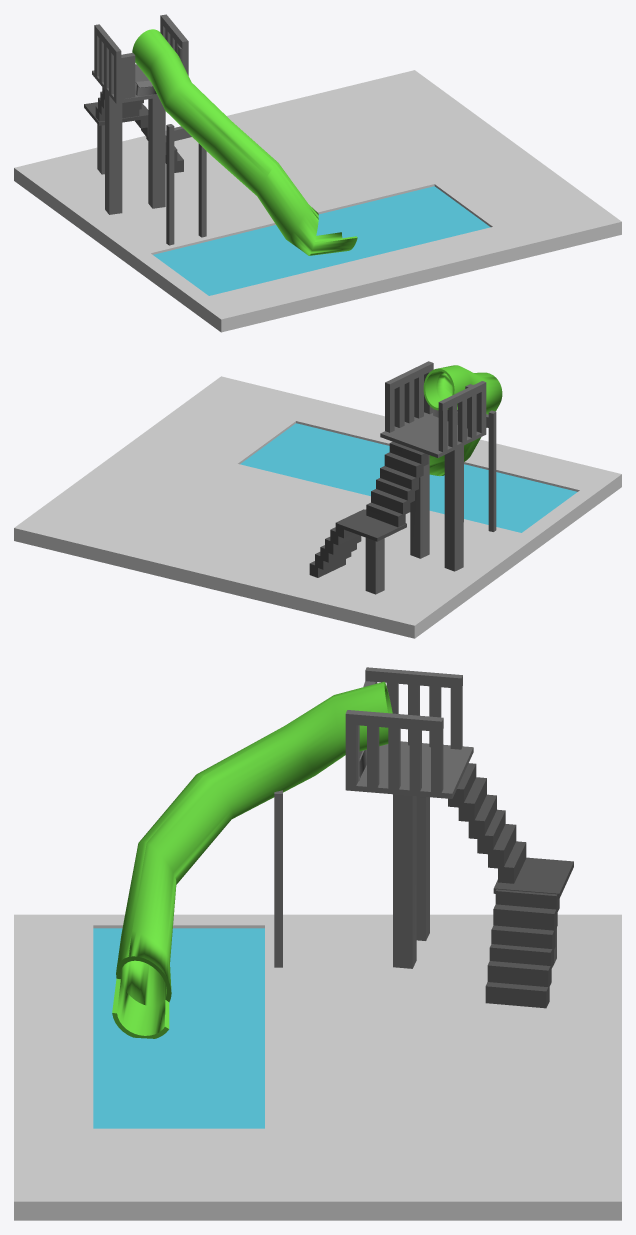
The model's file is 1779257789250-waterslide (2).glb.
3 renders of one model, top to bottom at view 1: azimuth 30°, elevation 25°; view 2: azimuth 150°, elevation 25°; view 3: azimuth 270°, elevation 25°, orthographic. The views are drawn at different scales.
Parts seen in each view (by area): view 1: Cube_2; view 2: Cube_2; view 3: Cube_2.
Part boxes in pixels (box(x1,y1,x2,y2)): Cube_2: box(14, 14, 621, 332); Cube_2: box(14, 361, 621, 638); Cube_2: box(14, 667, 621, 1220).
Size of the model in its own units: 8.63 by 4.05 by 7.72.
